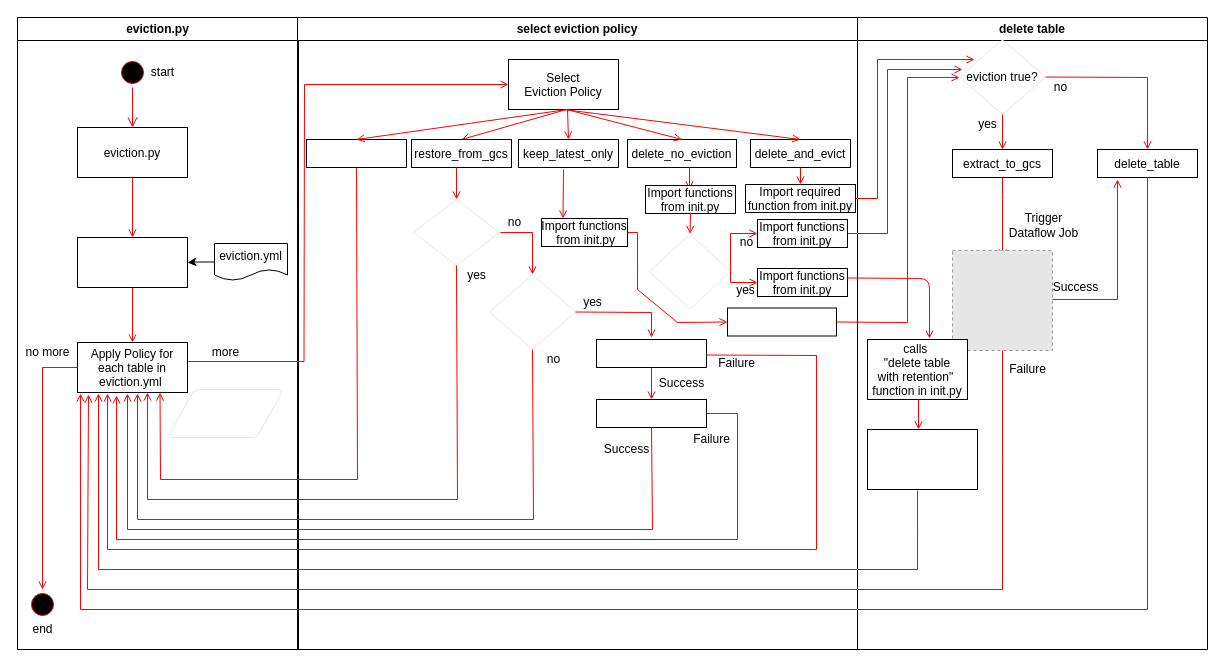
The diagram is 1225 pixels wide and 667 high, and some of its shapes have lost their labels. Grey dashed boxes stand in for pictures. The shapes that lost their labels are listed below. From the top down, each one's box as (x1, y1, x2, y2) in pixels, then its label:
(306, 138, 406, 168): keep_everything
(413, 199, 499, 265): Table Exist in BQ?
(76, 236, 188, 288): Load Configuration
(649, 234, 730, 308): Has data retention policy?
(489, 274, 575, 349): Schema Exist in GCS?
(726, 307, 836, 336): iterate for all non-latest table list
(596, 338, 706, 368): Create Table using Schema in BQ
(167, 389, 283, 437): apply(dataset ,table ,dry_run)
(596, 398, 706, 428): Load table data from GCS to BQ
(866, 428, 978, 490): calls "bqtable_ deletion_policy.sh" which deletes table based on policy
